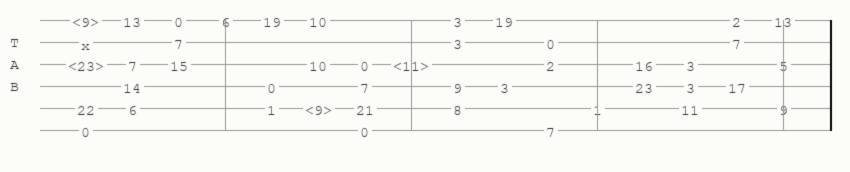0: (81, 124, 94, 137), (174, 14, 187, 27), (267, 80, 280, 93), (360, 124, 373, 137), (360, 58, 373, 71), (546, 36, 559, 49)
1: (267, 102, 280, 115), (593, 102, 606, 115)
10: (309, 58, 331, 71), (309, 14, 331, 27)
11: (681, 102, 703, 115)
13: (123, 14, 145, 27), (774, 14, 796, 27)
14: (123, 80, 145, 93)
15: (170, 58, 192, 71)
16: (635, 58, 657, 71)
17: (728, 80, 750, 93)
19: (263, 14, 285, 27), (495, 14, 517, 27)
2: (546, 58, 559, 71), (732, 14, 745, 27)
21: (356, 102, 378, 115)
22: (77, 102, 99, 115)
23: (635, 80, 657, 93)
3: (453, 36, 466, 49), (453, 14, 466, 27), (500, 80, 513, 93), (686, 58, 699, 71), (686, 80, 699, 93)
5: (779, 58, 792, 71)
6: (128, 102, 141, 115), (221, 14, 234, 27)
7: (128, 58, 141, 71), (174, 36, 187, 49), (360, 80, 373, 93), (546, 124, 559, 137), (732, 36, 745, 49)
8: (453, 102, 466, 115)
9: (453, 80, 466, 93), (779, 102, 792, 115)
harmonic: (68, 58, 108, 71), (393, 58, 433, 71), (72, 14, 103, 27), (305, 102, 336, 115)
x: (81, 37, 94, 47)
